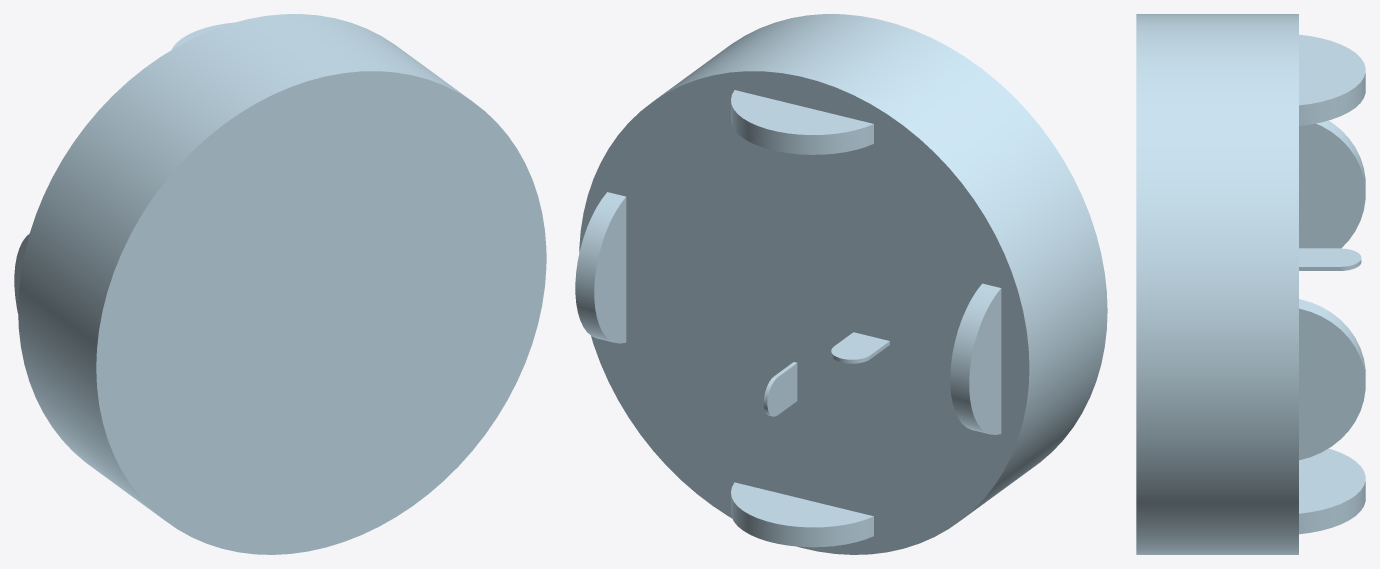
Rendered from Body.gltf.
3 views of the same model, side by side, from view 1: azimuth 30°, elevation 25°; view 2: azimuth 150°, elevation 25°; view 3: azimuth 270°, elevation 25° (orthographic). The views are drawn at different scales.
Parts seen in each view (by area): view 1: mesh3, mesh4; view 2: mesh5, mesh4, mesh11, mesh14, mesh16, mesh13, mesh6, mesh8, mesh7, mesh9, mesh21, mesh27; view 3: mesh4, mesh15, mesh10, mesh13, mesh16, mesh9, mesh7, mesh27, mesh8, mesh6.
Boxes of the visible parts, x1=… form: mesh3: x1=96, y1=71, x2=546, y2=554; mesh4: x1=18, y1=14, x2=469, y2=517; mesh5: x1=579, y1=71, x2=1029, y2=554; mesh4: x1=656, y1=14, x2=1107, y2=518; mesh11: x1=969, y1=288, x2=1001, y2=434; mesh14: x1=594, y1=197, x2=626, y2=343; mesh16: x1=731, y1=482, x2=873, y2=527; mesh13: x1=731, y1=90, x2=873, y2=134; mesh6: x1=950, y1=283, x2=1000, y2=434; mesh8: x1=575, y1=192, x2=625, y2=342; mesh7: x1=731, y1=101, x2=873, y2=154; mesh9: x1=731, y1=494, x2=873, y2=547; mesh21: x1=767, y1=363, x2=797, y2=416; mesh27: x1=831, y1=332, x2=889, y2=359; mesh4: x1=1136, y1=14, x2=1298, y2=554; mesh15: x1=1299, y1=308, x2=1365, y2=460; mesh10: x1=1299, y1=123, x2=1365, y2=248; mesh13: x1=1299, y1=34, x2=1365, y2=105; mesh16: x1=1299, y1=448, x2=1365, y2=513; mesh9: x1=1299, y1=481, x2=1365, y2=534; mesh7: x1=1299, y1=73, x2=1365, y2=125; mesh27: x1=1299, y1=248, x2=1361, y2=266; mesh8: x1=1299, y1=299, x2=1365, y2=377; mesh6: x1=1316, y1=120, x2=1365, y2=187.
Size of the model in its own units: 0.595 by 0.5949 by 0.252.
